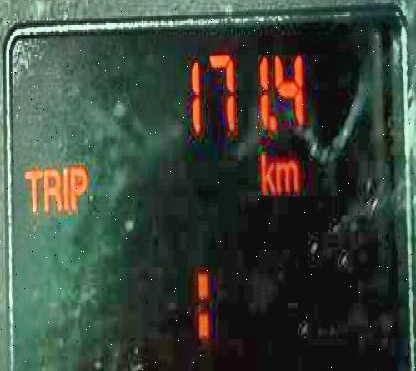-: (268, 114, 275, 129)
1: (258, 53, 268, 127), (189, 58, 199, 131)
4: (273, 51, 303, 125)
7: (206, 49, 234, 129)
X: (195, 267, 208, 338), (23, 167, 43, 213), (274, 158, 298, 193), (41, 167, 60, 211), (68, 165, 85, 211), (259, 152, 274, 192), (60, 167, 69, 209)
